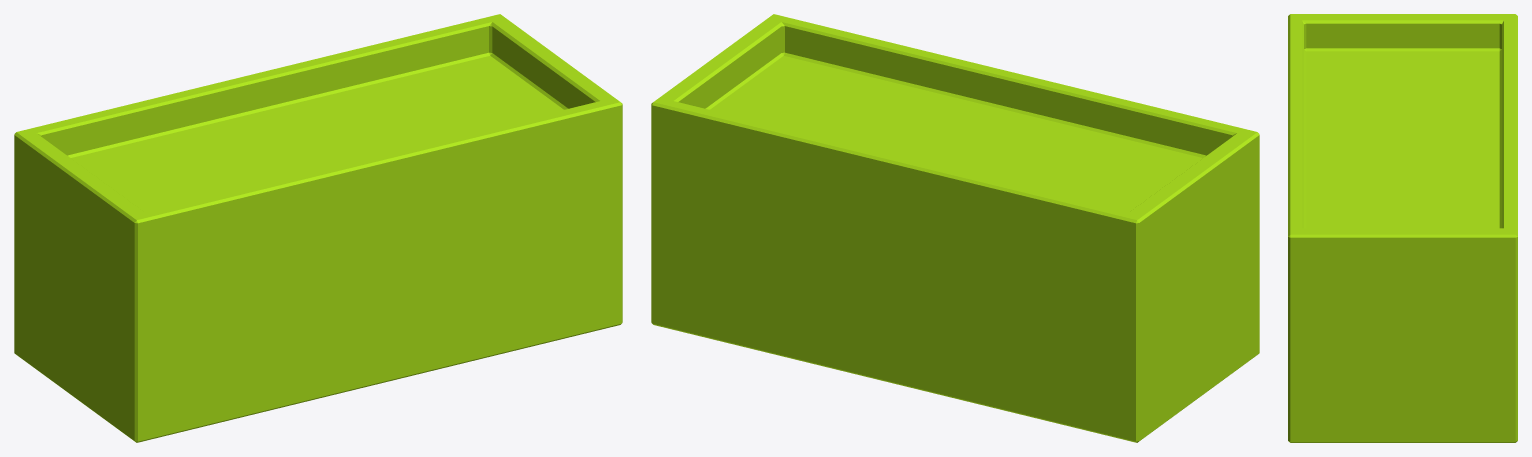
The model's file is flowerBoxA.fbx.
3 views of the same model, side by side, from view 1: azimuth 30°, elevation 25°; view 2: azimuth 150°, elevation 25°; view 3: azimuth 270°, elevation 25° (orthographic). The views are drawn at different scales.
Visible parts, largest first — view 1: flowerBoxA; view 2: flowerBoxA; view 3: flowerBoxA.
Boxes of the visible parts, box(x1,y1,x2,y2) form: flowerBoxA: box(14, 14, 622, 442); flowerBoxA: box(651, 14, 1259, 442); flowerBoxA: box(1288, 14, 1517, 442).
Size of the model in its own units: 224 by 97.76 by 97.76.
